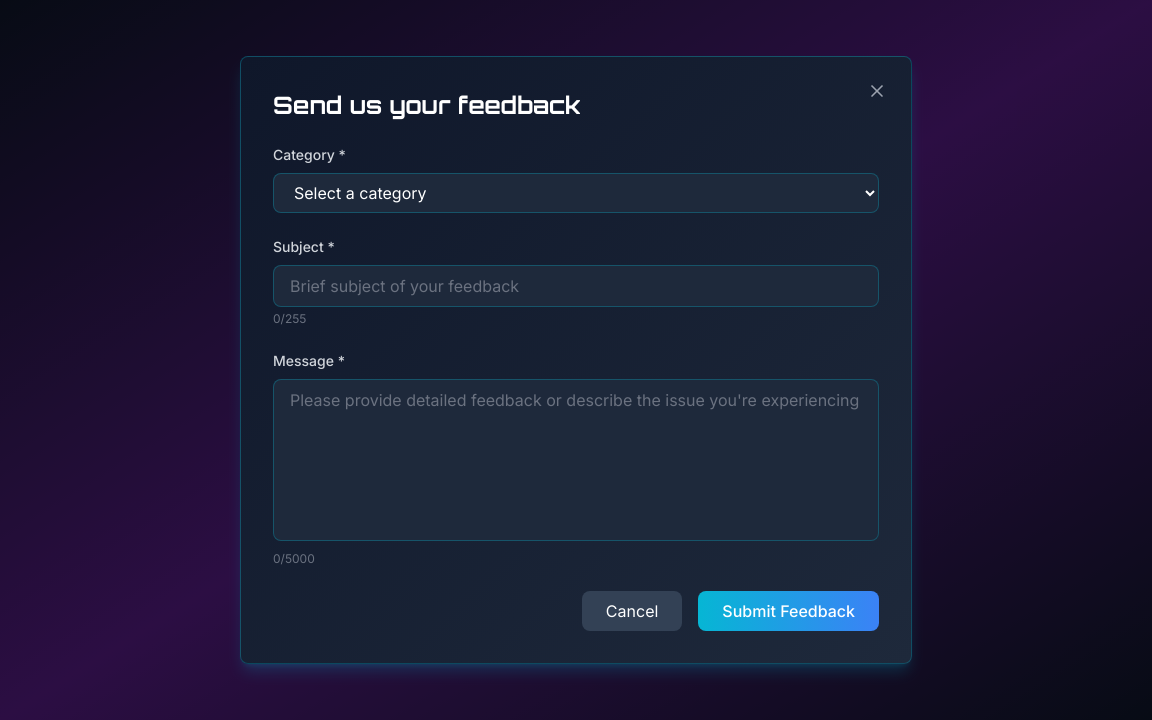
Test: FeedbackForm › should validate subject length
This screenshot has width=1152, height=720.
Select "Technical" in the dropdown labelled "Category *" at [576, 193], box [273,173,879,213]
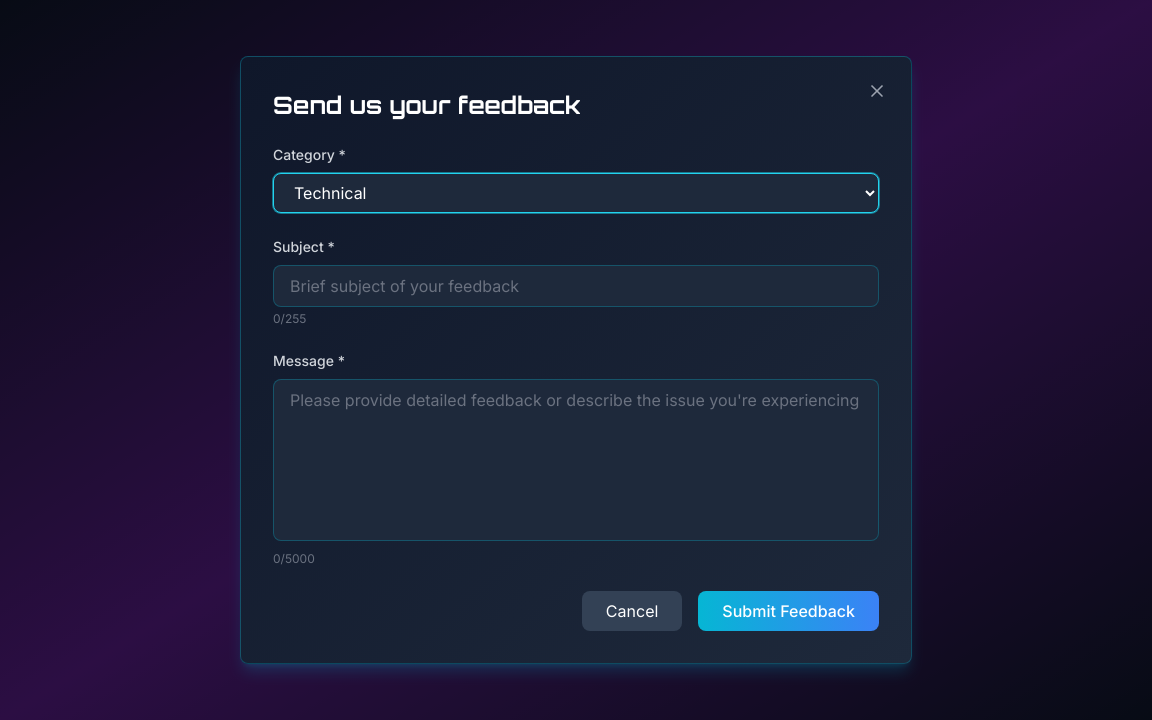
Type "Hi" into the field labelled "Subject *" at [576, 286], box [273,265,879,307]
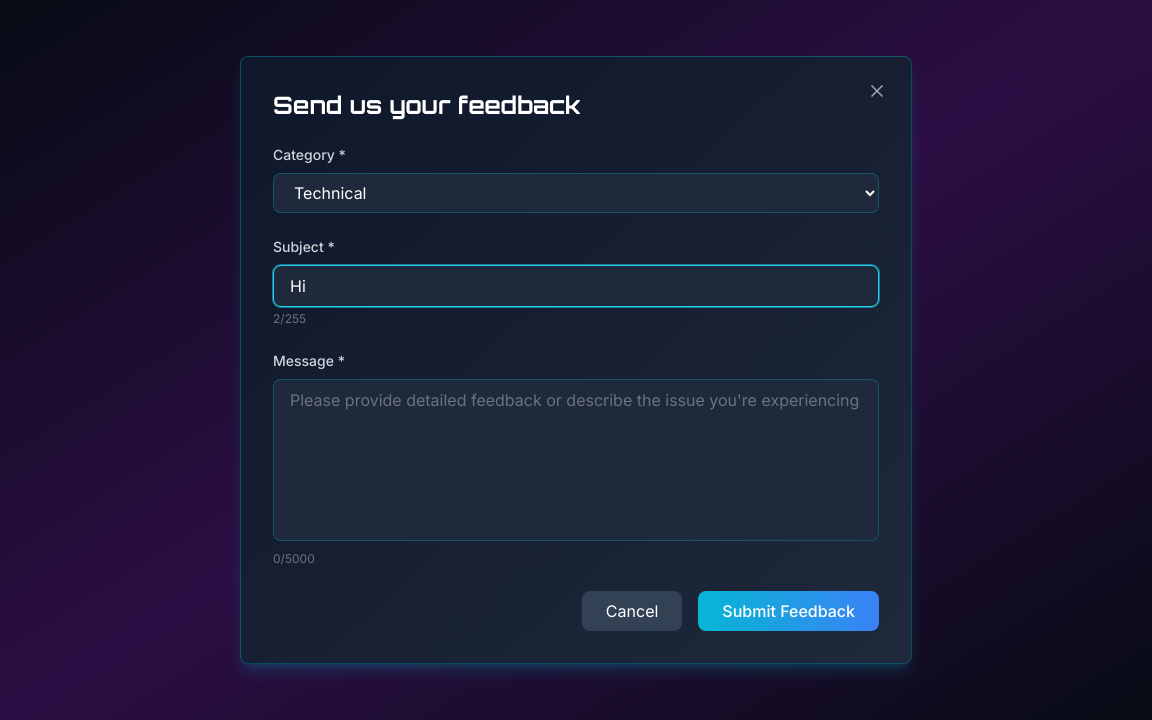
Type "Test message content here" into the text box labelled "Message *" at [576, 460], box [273,379,879,541]
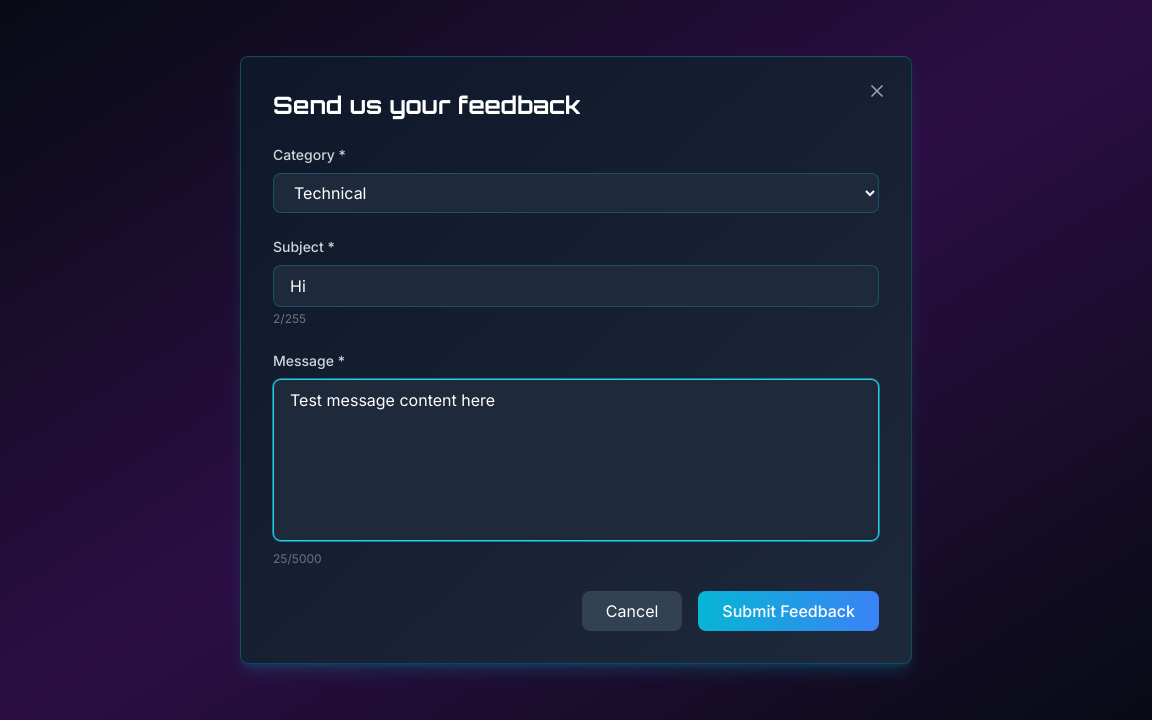
Click the button "Submit Feedback" at [789, 611], box [698,591,879,631]
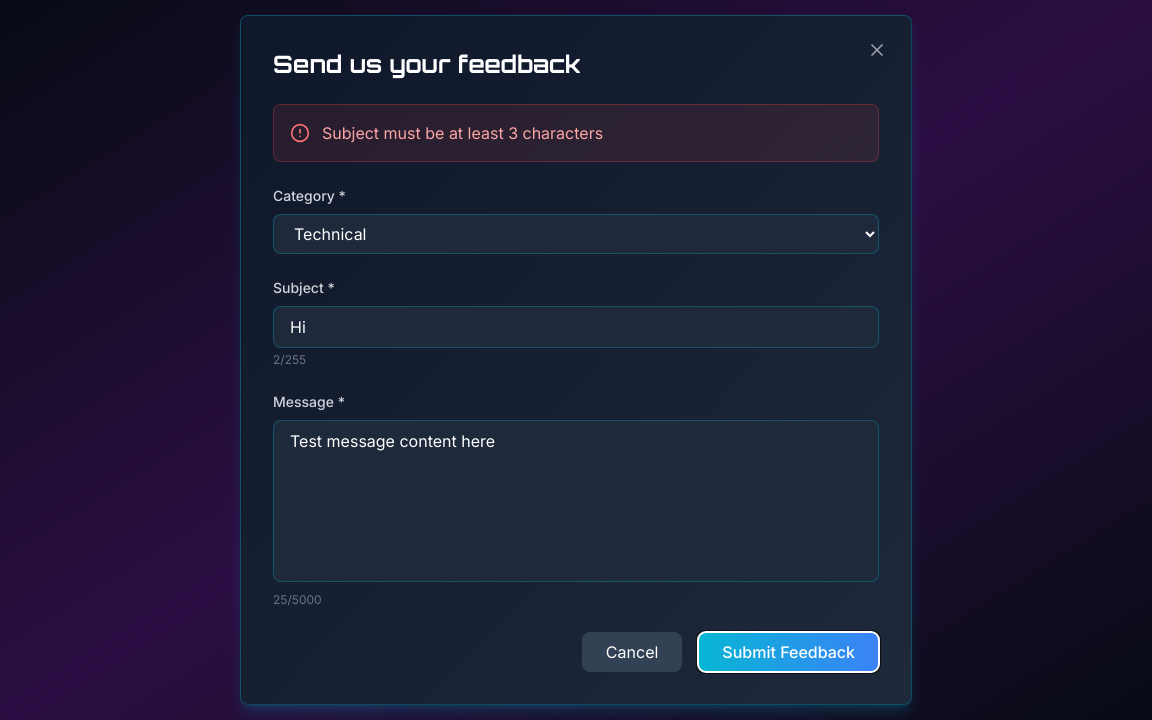
Now the text "Subject must be at least 3 characters" is shown, box [322,121,603,145]
